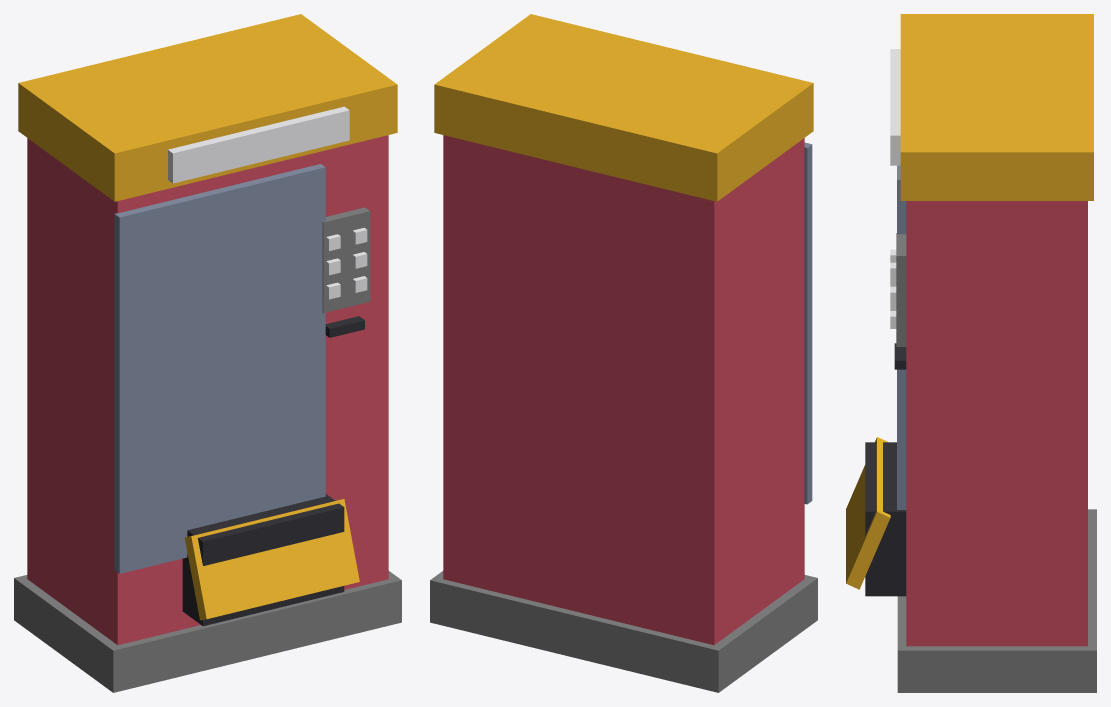
The model's file is duckomat.glb.
The picture shows the model from 3 angles, left to right: view 1: azimuth 30°, elevation 25°; view 2: azimuth 150°, elevation 25°; view 3: azimuth 270°, elevation 25°; orthographic projection.
Visible parts, largest first — view 1: duckomat; view 2: duckomat; view 3: duckomat.
Boxes of the visible parts, bbox=[...] form: duckomat: bbox=[14, 14, 401, 692]; duckomat: bbox=[430, 14, 817, 692]; duckomat: bbox=[846, 14, 1096, 692].
Size of the model in its own units: 1 by 1.78 by 0.75.
